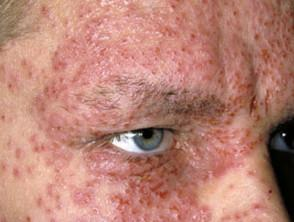Eczema: (51, 55, 93, 92), (26, 140, 68, 166), (72, 2, 132, 19), (136, 7, 170, 37), (34, 178, 73, 204), (45, 160, 85, 185), (59, 94, 95, 117), (48, 123, 81, 148), (98, 100, 141, 119), (32, 99, 58, 128), (54, 42, 101, 58), (134, 158, 181, 174), (199, 0, 230, 24), (127, 183, 151, 214), (71, 28, 103, 51), (34, 194, 61, 220), (144, 35, 172, 60), (81, 10, 110, 33), (108, 20, 133, 46), (106, 49, 132, 74), (188, 201, 218, 222), (191, 76, 220, 97), (155, 56, 180, 80), (84, 155, 114, 174), (78, 169, 106, 189), (128, 54, 153, 76), (41, 80, 68, 100), (261, 14, 283, 38), (268, 38, 290, 62), (172, 37, 193, 61), (0, 161, 25, 181), (155, 187, 177, 209), (245, 122, 266, 145), (178, 27, 202, 46), (212, 143, 236, 162), (111, 160, 132, 181), (34, 5, 57, 24), (165, 0, 184, 23), (258, 2, 294, 14), (70, 187, 94, 205), (94, 41, 111, 66), (197, 99, 220, 117), (238, 76, 261, 94), (187, 140, 208, 159), (232, 93, 254, 111), (96, 114, 126, 127), (153, 171, 185, 183), (194, 113, 212, 134), (216, 100, 238, 117), (230, 47, 256, 61), (191, 157, 221, 169), (180, 153, 196, 175), (110, 194, 132, 210), (215, 121, 233, 140), (5, 136, 21, 157), (134, 167, 155, 183), (24, 128, 45, 144), (248, 27, 266, 45), (255, 95, 269, 117), (232, 134, 249, 152), (198, 176, 223, 187), (211, 64, 228, 80), (231, 60, 257, 70), (189, 54, 204, 71), (227, 176, 242, 193), (246, 202, 267, 214), (254, 67, 279, 77), (280, 97, 294, 114), (209, 31, 227, 44), (240, 209, 258, 222), (175, 114, 194, 126), (155, 210, 174, 222), (76, 213, 101, 222), (4, 78, 18, 94), (235, 7, 249, 23), (255, 49, 269, 65), (261, 185, 277, 199), (255, 81, 292, 87), (206, 50, 219, 67), (220, 206, 237, 219), (18, 54, 30, 72), (0, 64, 13, 80), (180, 186, 197, 198), (22, 209, 37, 222), (90, 121, 104, 134), (282, 65, 294, 80), (172, 207, 189, 217), (243, 168, 258, 179), (92, 207, 106, 217), (288, 16, 294, 34), (0, 106, 8, 119), (114, 213, 125, 222), (273, 91, 274, 92)
